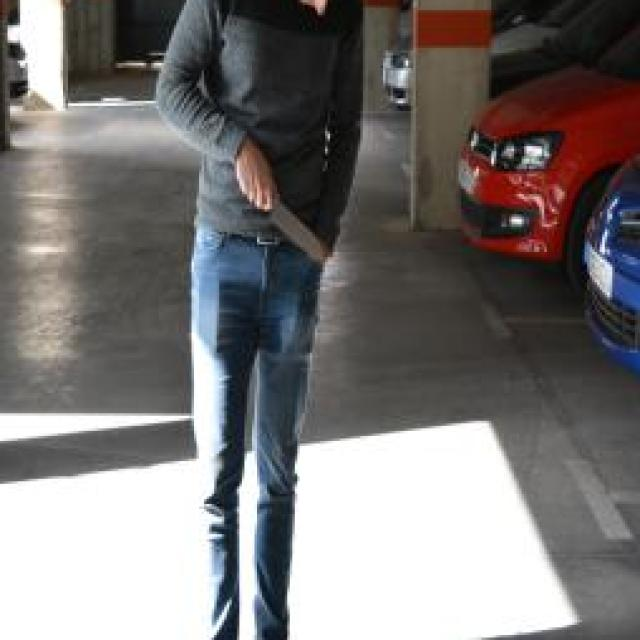knife: (254, 187, 324, 262)
